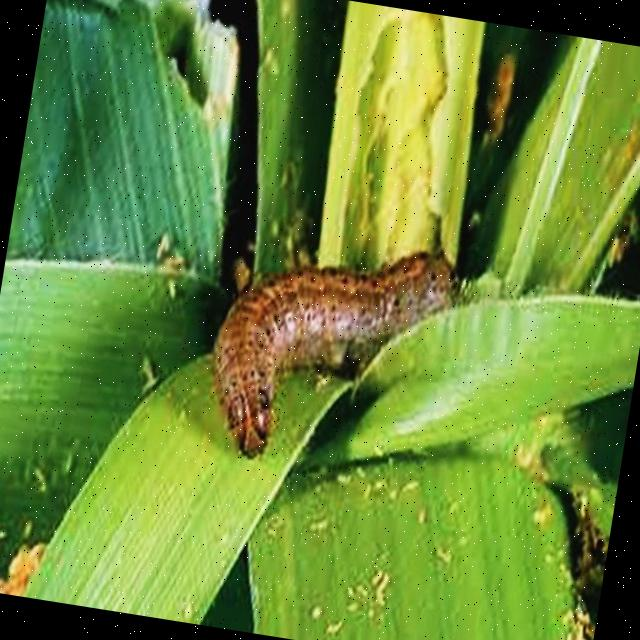worm: (196, 216, 466, 488)
